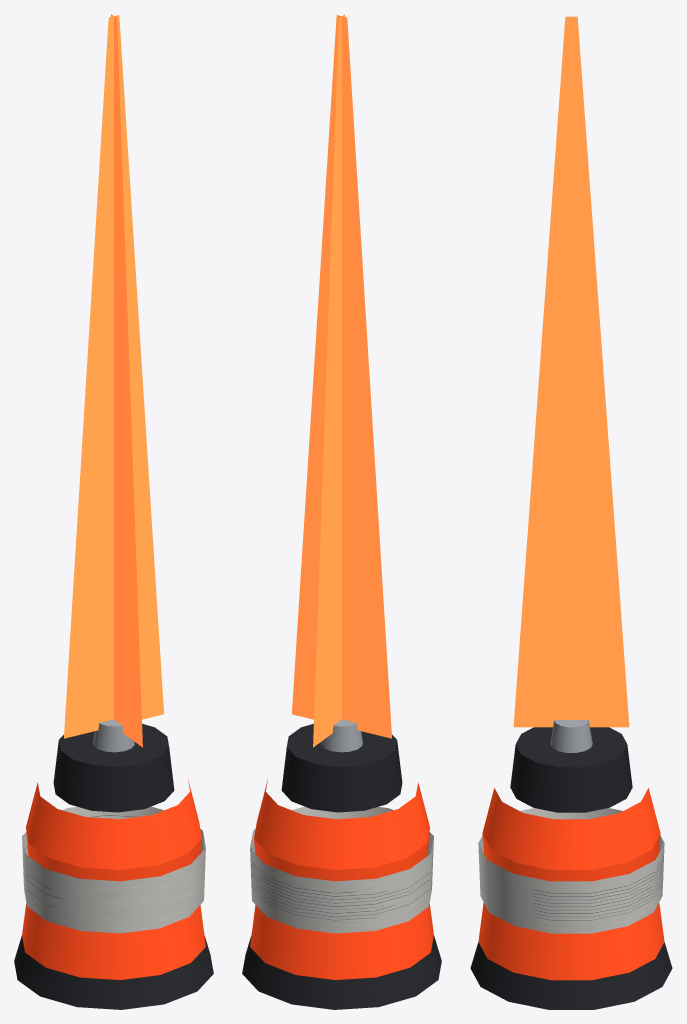
Rendered from ink_pod.glb.
3 renders of one model, left to right at view 1: azimuth 30°, elevation 25°; view 2: azimuth 150°, elevation 25°; view 3: azimuth 270°, elevation 25°, orthographic.
Visible parts, largest first — view 1: Ink_Pod; view 2: Ink_Pod; view 3: Ink_Pod.
Boxes of the visible parts, x1,y1,x2,y2 form: Ink_Pod: [14, 14, 213, 1009]; Ink_Pod: [242, 14, 441, 1009]; Ink_Pod: [470, 16, 672, 1009].
Bounding box in the file's own units: 0.289 × 1.54 × 0.2964.
Materials: 5 (1 with a texture image).
